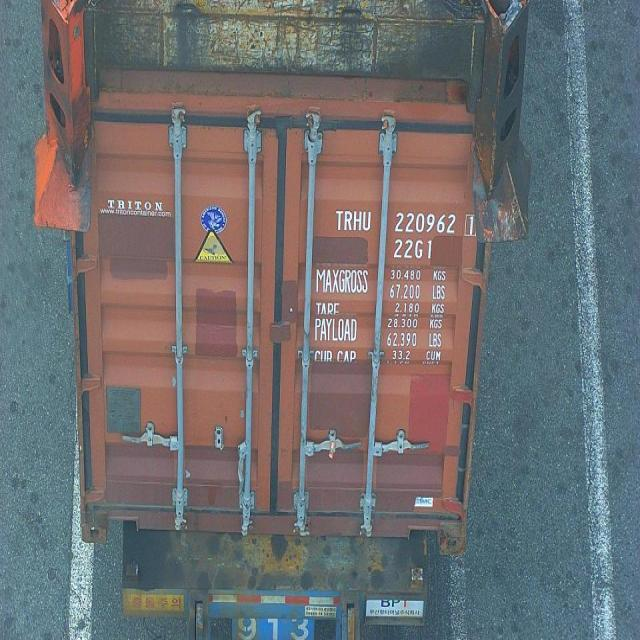ISO: (396, 239, 434, 261)
container_number: (334, 208, 476, 241)
